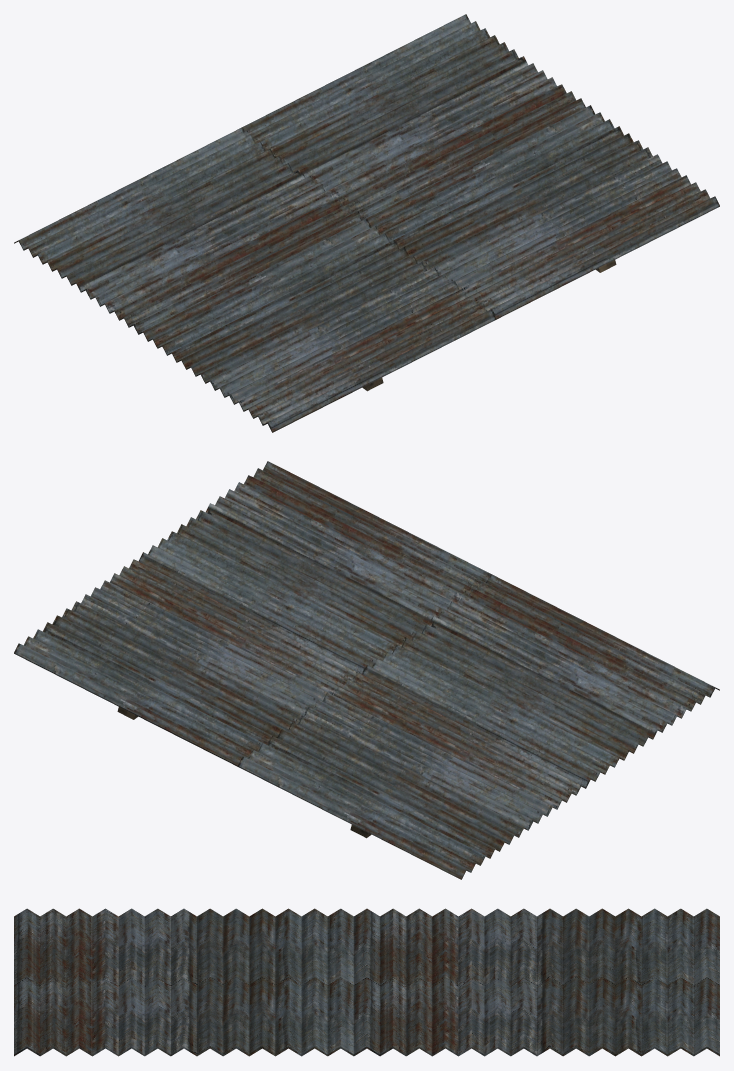
The model's file is roof_hr_3_middle_angle.obj.
3 views of the same model, one above another, from view 1: azimuth 30°, elevation 25°; view 2: azimuth 150°, elevation 25°; view 3: azimuth 270°, elevation 25° (orthographic). The views are drawn at different scales.
Parts seen in each view (by area): view 1: roof_hr_3_middle_angle; view 2: roof_hr_3_middle_angle; view 3: roof_hr_3_middle_angle.
Part boxes in pixels (x1=…): roof_hr_3_middle_angle: x1=14, y1=14, x2=719, y2=432; roof_hr_3_middle_angle: x1=14, y1=461, x2=719, y2=879; roof_hr_3_middle_angle: x1=14, y1=908, x2=719, y2=1056.
Size of the model in its own units: 4 by 1.06 by 4.
